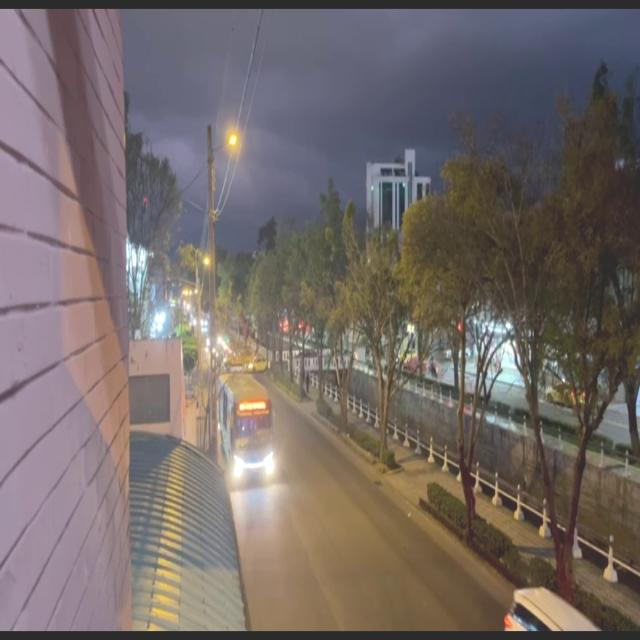BUS: (222, 373, 277, 478)
